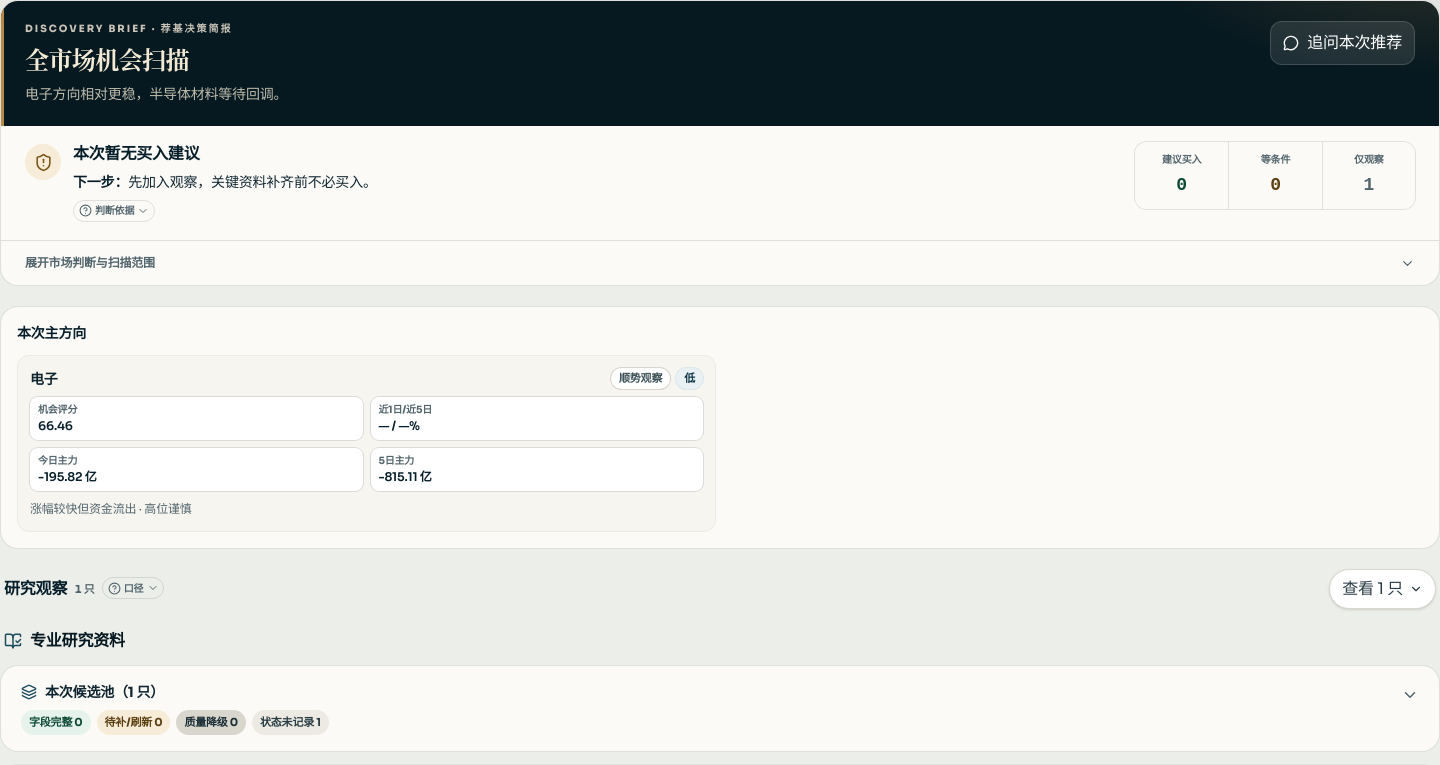
Test case: DiscoveryReportPanel › keeps evidence-blocked recommendations in research observation instead of priority action
Expected: the heading "本次主方向" is shown, [17,323,86,343]
Expected: the text "电子" is shown, [30,368,58,388]
Click the button "查看 1 只" at (1383, 590), box [1329,570,1436,610]
(page scrolled)
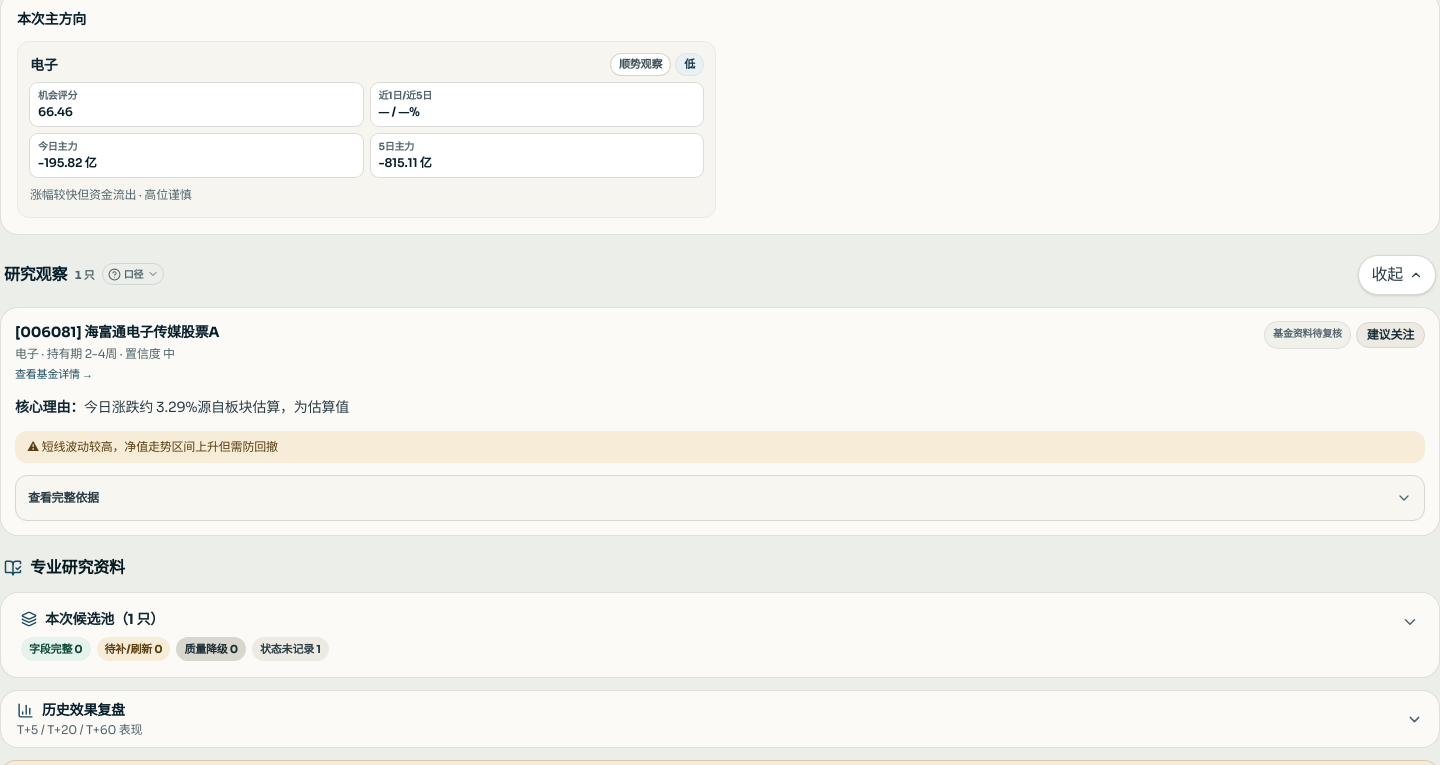
Expected: the text "决策路径" is not shown
Expected: the text "核心理由：" is shown, [15,398,84,416]
Click the heading "查看完整依据" at (63, 497), box [28,490,1412,506]
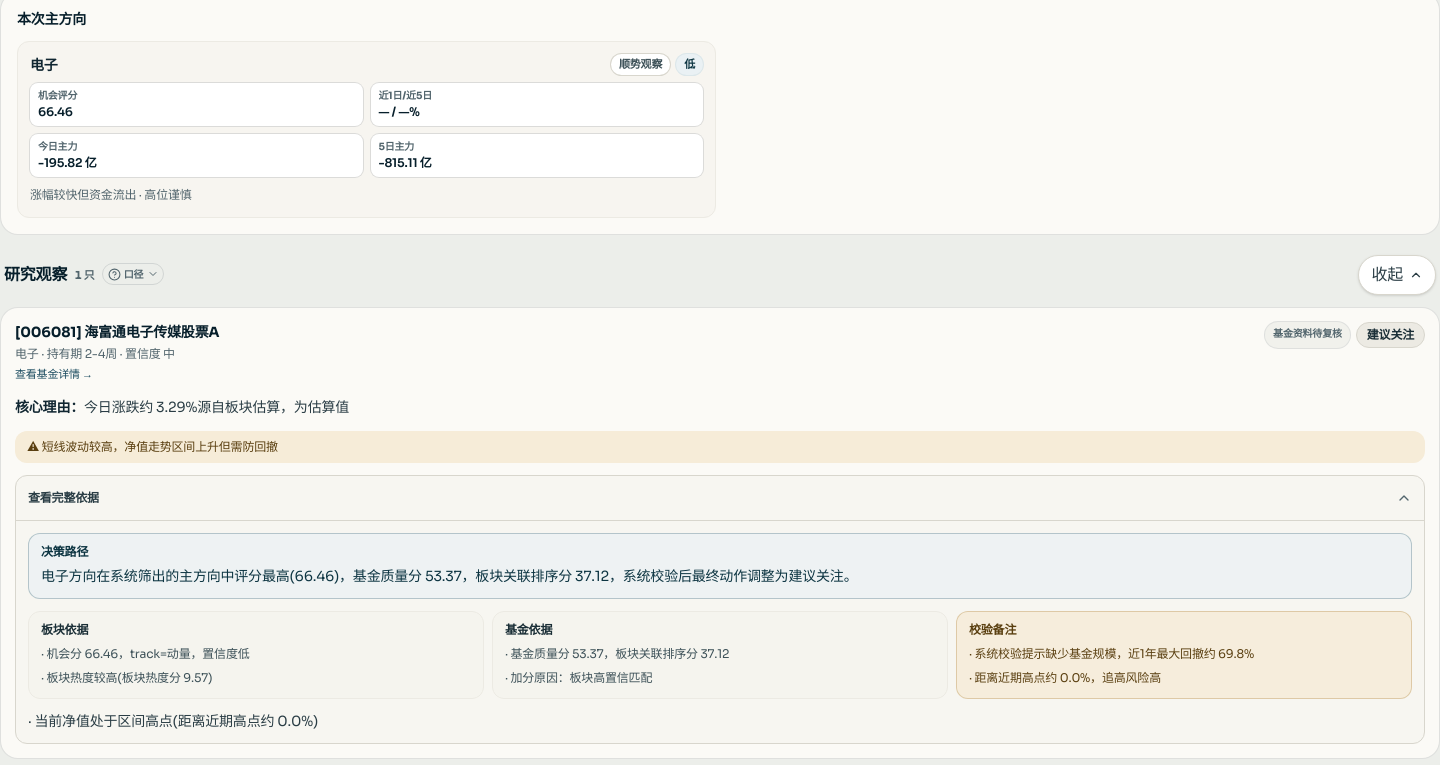
Expected: the text "决策路径" is shown, [41,544,88,559]
Expected: the text "板块依据" is shown, [41,622,88,637]
Expected: the text "基金依据" is shown, [505,622,552,637]
